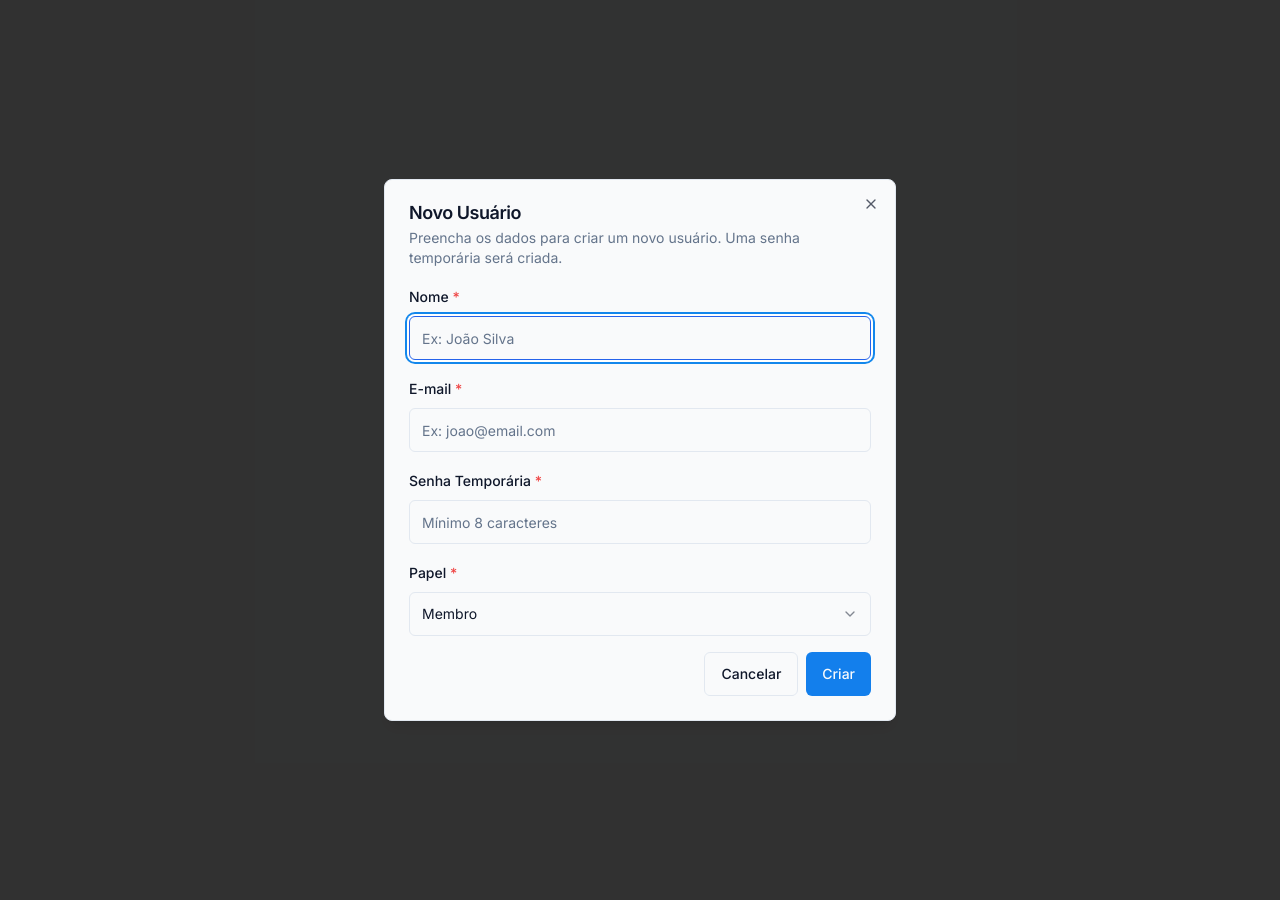
Scenario: UserForm › validates required fields
Click the button "Criar": (839, 674) x1=806 y1=652 x2=871 y2=696
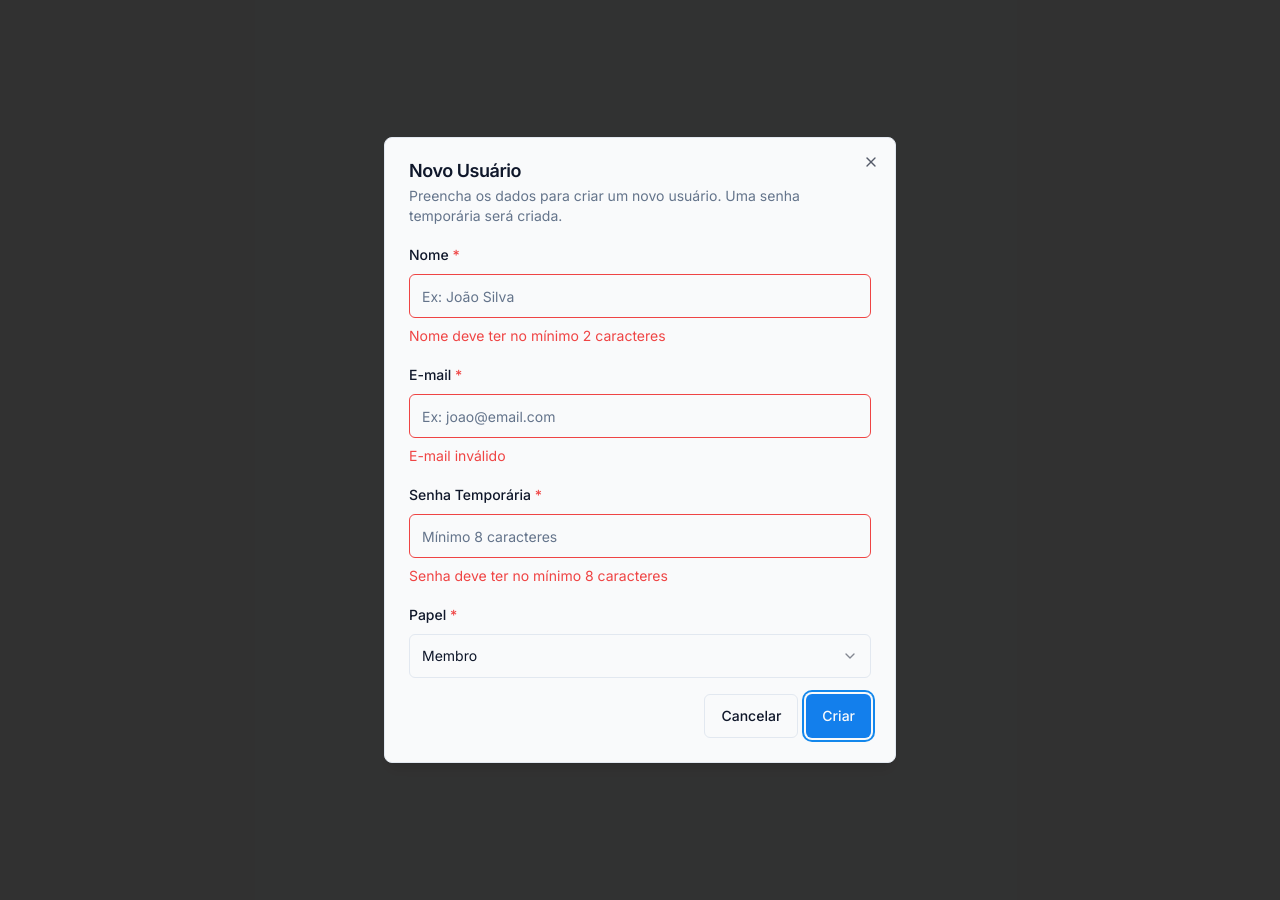
Now the text "Nome deve ter no mínimo 2 caracteres" is shown, box x1=409 y1=327 x2=666 y2=344
